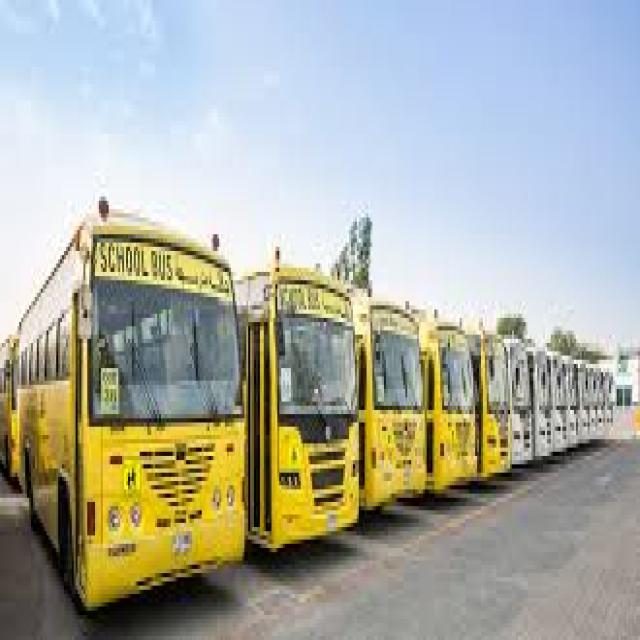bus: (17, 213, 245, 614), (253, 272, 357, 553), (359, 297, 424, 515)
